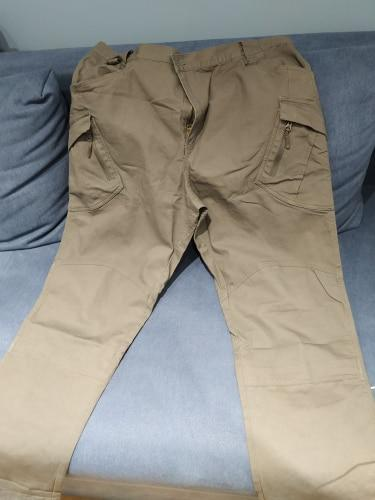pants: (4, 40, 375, 479)
